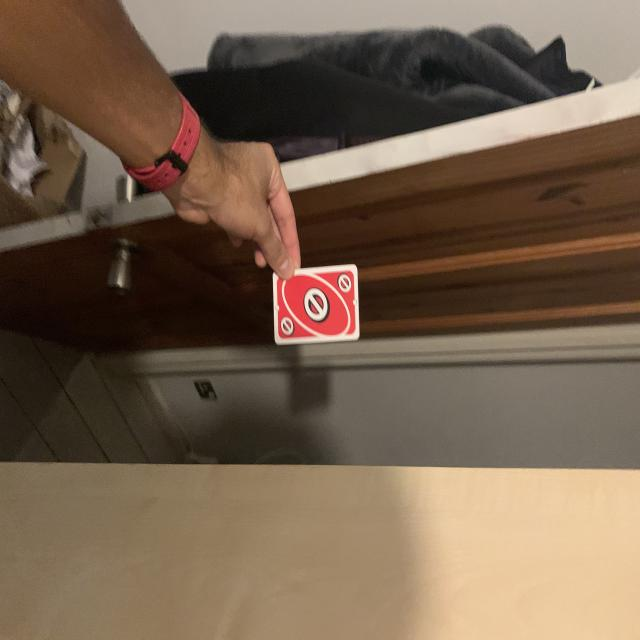lredskip-20: (336, 272, 354, 295)
